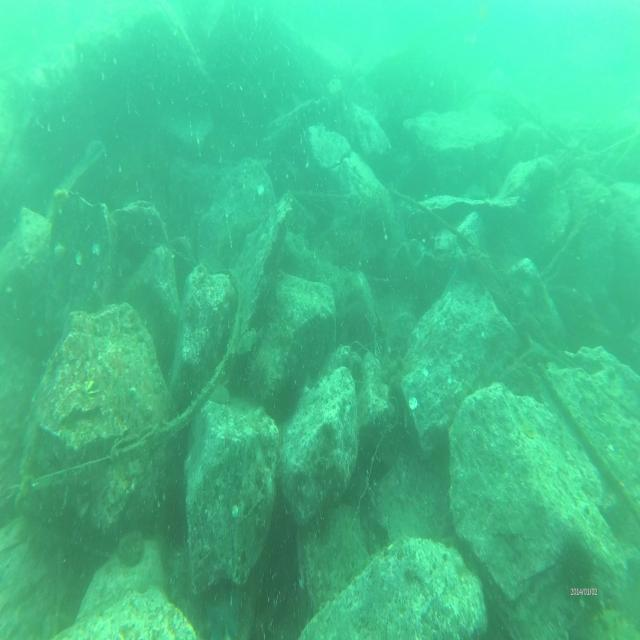echinus: (556, 540, 596, 592), (271, 369, 297, 417), (242, 359, 263, 400)
